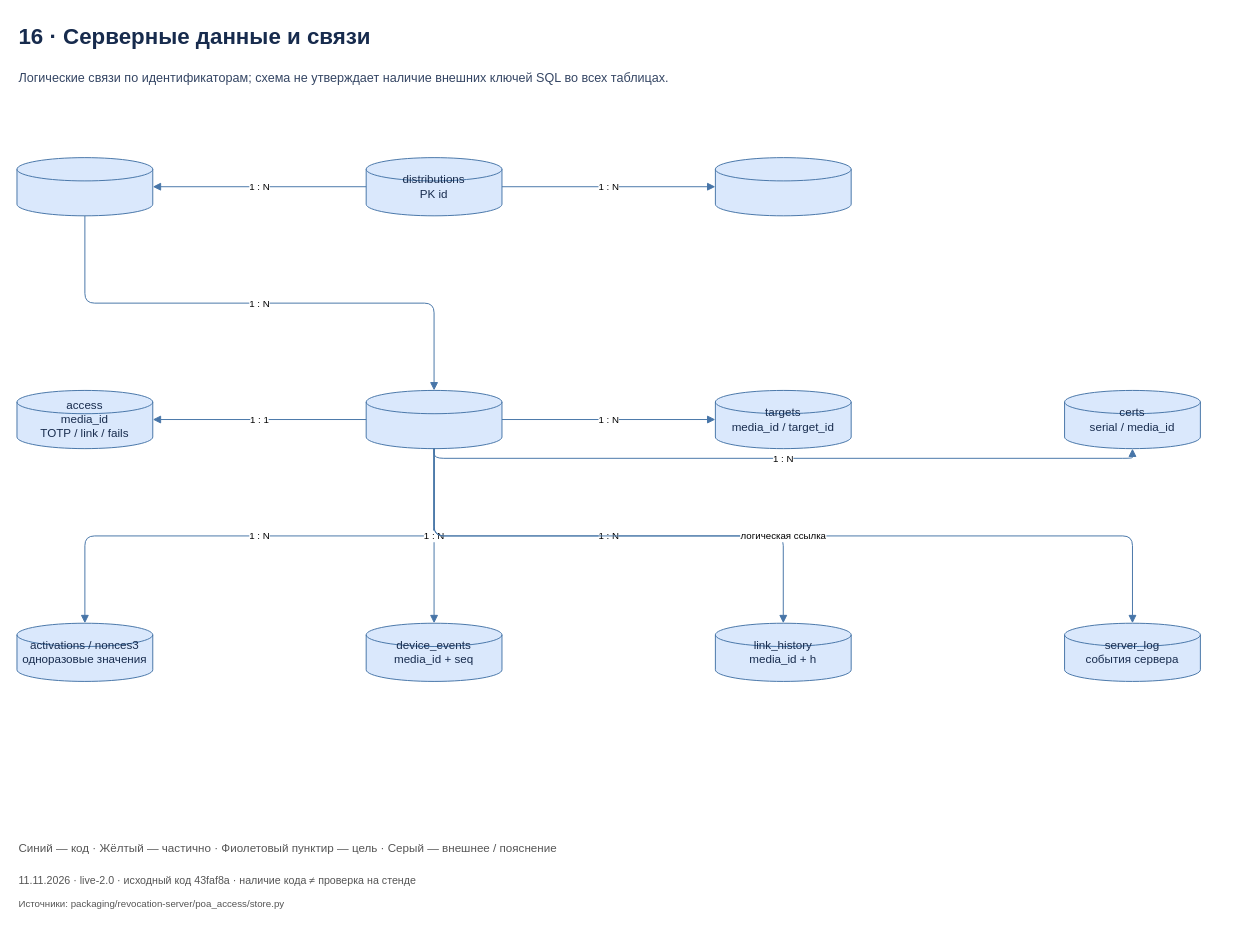
Image size: 1237x945. Some labels were removed from this diagram. Here are the shapes that lost their labels. From the top down, the centre of each, then its label:
[84,186]: groups PK id parent / distribution
[782,186]: releases distribution + serial
[433,419]: media PK media_id owner / group_id
